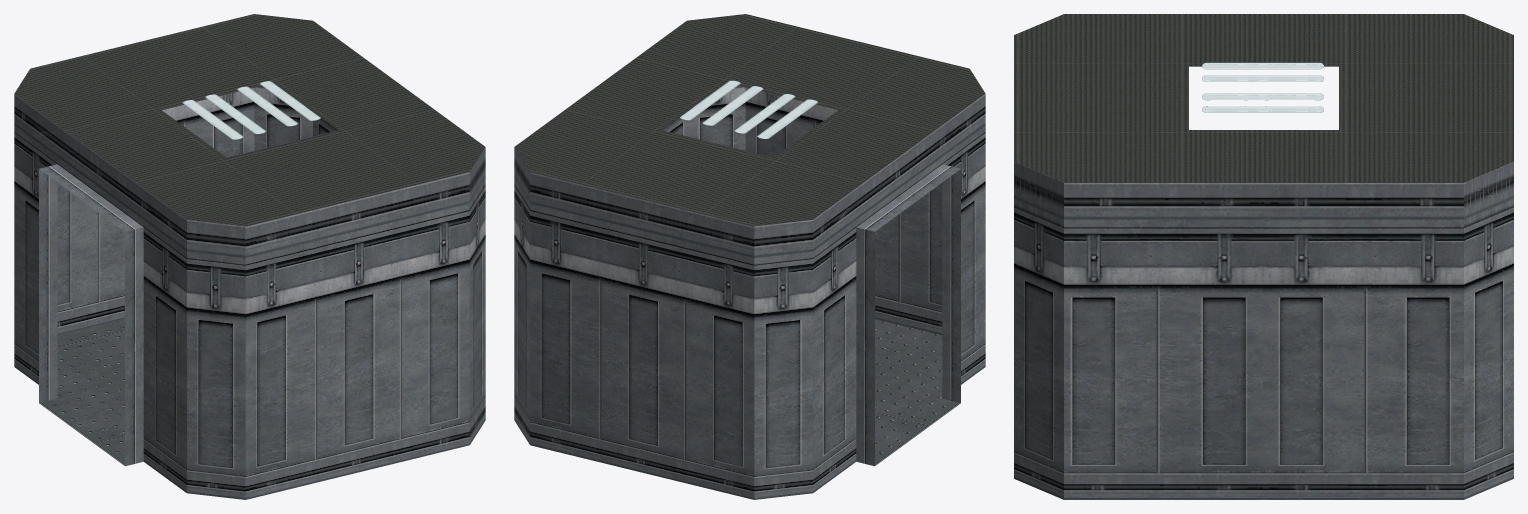
File: mun_all_military_storage_shed_impl_s01_r5_room2_mesh_room2.fbx
The picture shows the model from 3 angles, left to right: view 1: azimuth 30°, elevation 25°; view 2: azimuth 150°, elevation 25°; view 3: azimuth 270°, elevation 25°; orthographic projection. The views are drawn at different scales.
Parts seen in each view (by area): view 1: mesh_node; view 2: mesh_node; view 3: mesh_node.
Part boxes in pixels (box(x1,y1,x2,y2)): mesh_node: box(14, 14, 485, 499); mesh_node: box(514, 14, 985, 499); mesh_node: box(1014, 14, 1513, 499).
Bounding box in the file's own units: 4.25 × 3.63 × 5.
